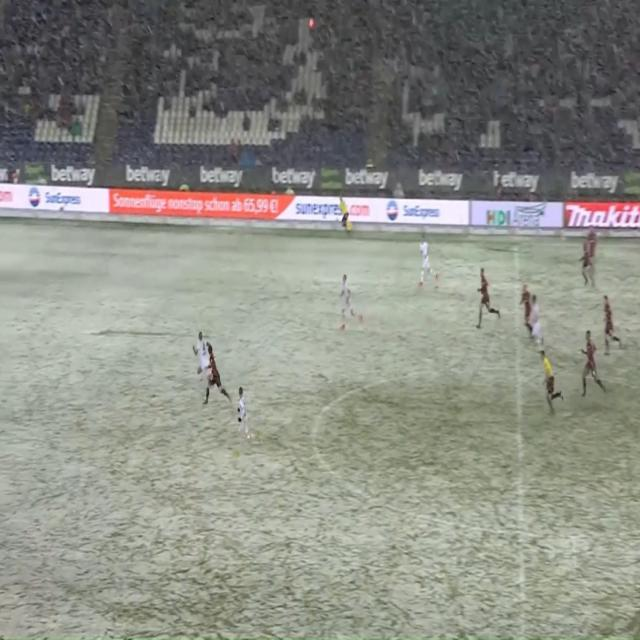ball: (308, 16, 315, 34)
player: (195, 336, 231, 422), (331, 265, 368, 344), (412, 220, 444, 298), (579, 327, 608, 407), (473, 261, 501, 333), (185, 319, 210, 397), (229, 378, 255, 450), (600, 288, 625, 358), (572, 235, 596, 289), (514, 277, 531, 347), (528, 286, 547, 348), (589, 221, 603, 273)
referee: (536, 348, 566, 419), (334, 189, 354, 238)
